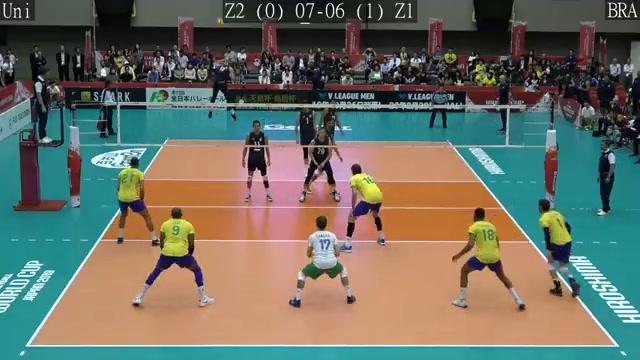ball: (216, 18, 227, 27)
